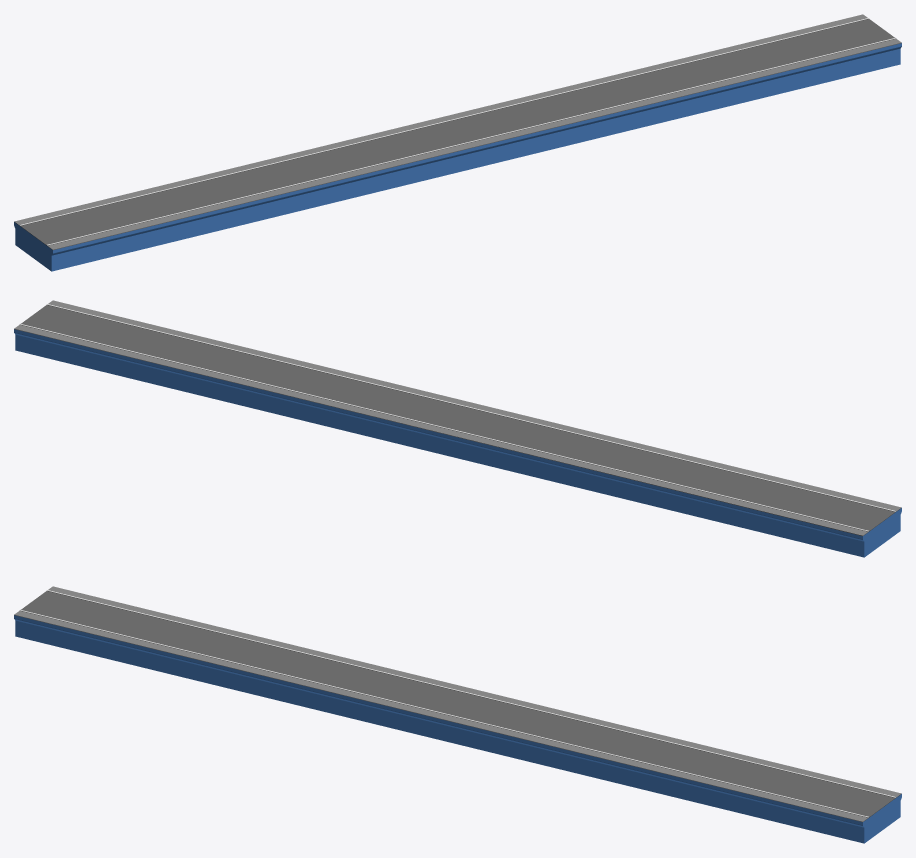
File: zhantai2.fbx
3 views of the same model, one above another, from view 1: azimuth 30°, elevation 25°; view 2: azimuth 150°, elevation 25°; view 3: azimuth 330°, elevation 25° (orthographic).
Parts seen in each view (by area): view 1: ZhanTai; view 2: ZhanTai; view 3: ZhanTai.
Boxes of the visible parts, x1,y1,x2,y2 form: ZhanTai: (14, 14, 901, 271); ZhanTai: (14, 300, 901, 557); ZhanTai: (14, 586, 901, 843).
Size of the model in its own units: 7795 by 203 by 622.
